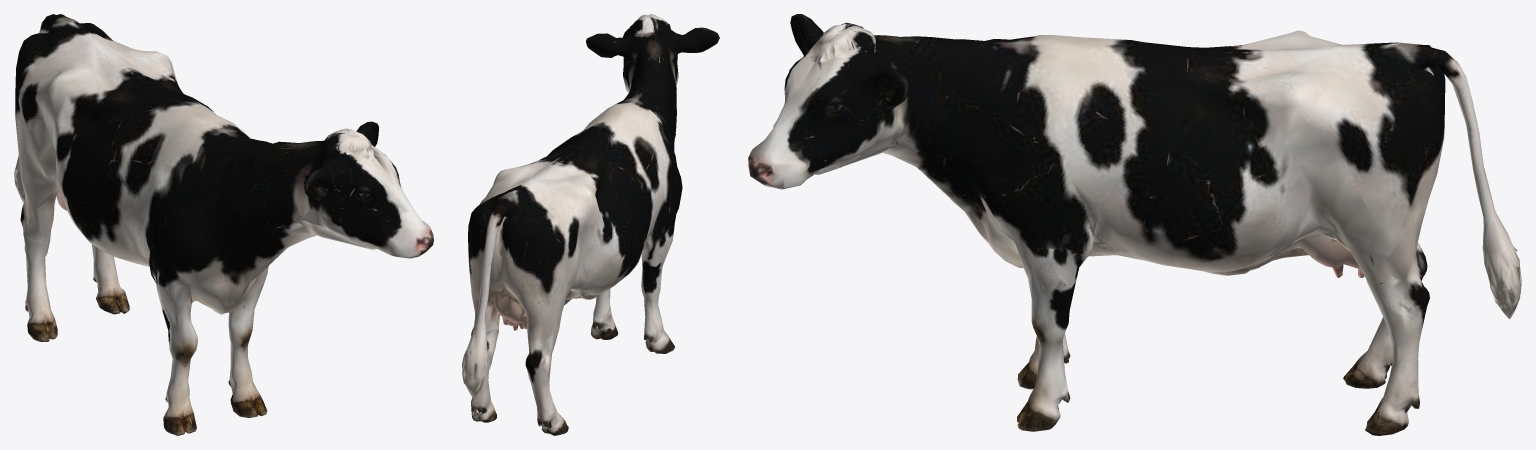
Rendered from cow.glb.
3 views of the same model, side by side, from view 1: azimuth 30°, elevation 25°; view 2: azimuth 150°, elevation 25°; view 3: azimuth 270°, elevation 25° (orthographic). The views are drawn at different scales.
Parts seen in each view (by area): view 1: cow; view 2: cow; view 3: cow.
Boxes of the visible parts, <box> form: cow: <box>14,14,433,435</box>; cow: <box>462,14,719,435</box>; cow: <box>748,14,1521,435</box>.
Bounding box in the file's own units: 0.7997 × 1.41 × 2.4.
1 material, 1 textured.
